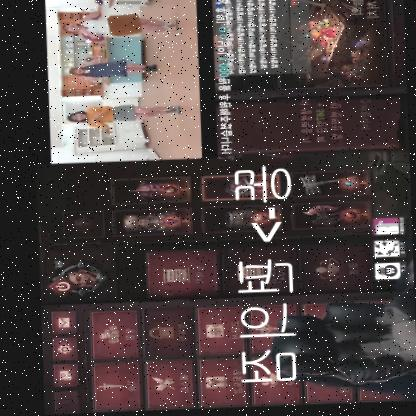donation: (43, 0, 234, 165)
